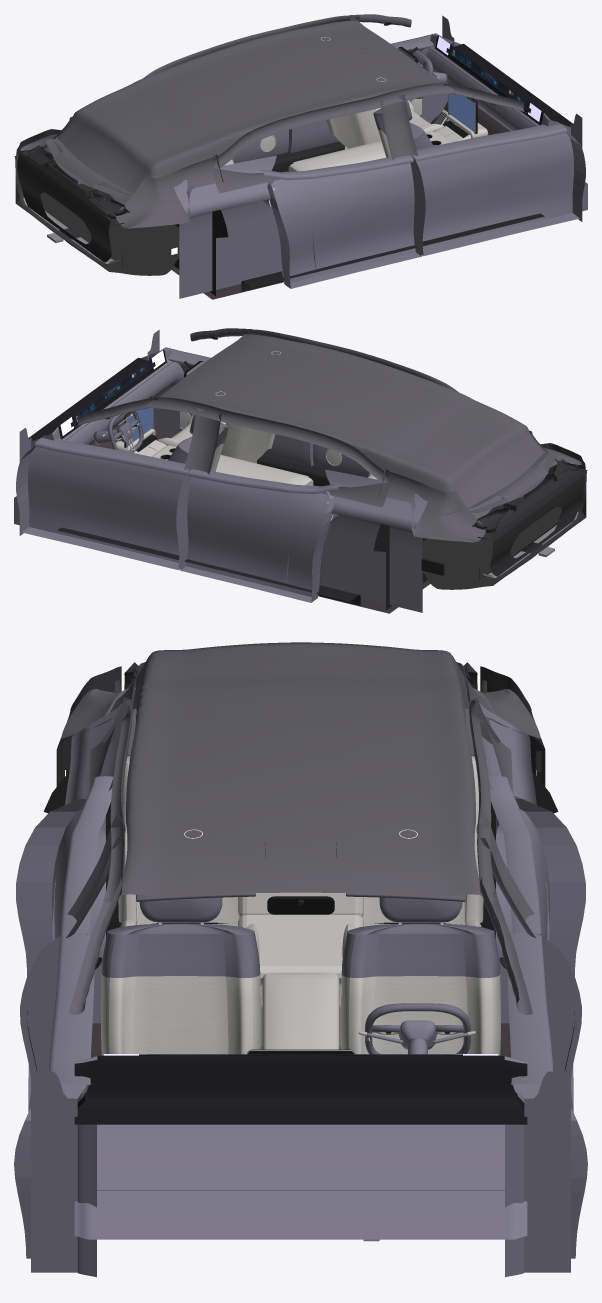
Rendered from avatr-06t-interior.glb.
3 renders of one model, top to bottom at view 1: azimuth 30°, elevation 25°; view 2: azimuth 150°, elevation 25°; view 3: azimuth 270°, elevation 25°, orthographic. The views are drawn at different scales.
Visible parts, largest first — view 1: Avatr06T_Cabin, int_headliner, int_door_R, int_rdoor_R, int_tailgate, int_cpillar, int_door_L, int_parcel_shelf, int_rdoor_L, int_qtr_lower, screen_cluster, screen_main (+1 smaller); view 2: Avatr06T_Cabin, int_headliner, int_door_L, int_rdoor_L, int_tailgate, int_cpillar, int_door_R, int_parcel_shelf, int_rdoor_R, int_qtr_lower, screen_cluster, int_rear_sill (+1 smaller); view 3: Avatr06T_Cabin, int_headliner, int_door_L, int_door_R, int_rdoor_R, int_rdoor_L, int_cpillar, int_qtr_lower, int_cpillar_flange.
Boxes of the visible parts, x1,y1,x2,y2 form: Avatr06T_Cabin: (14, 14, 587, 299); int_headliner: (44, 20, 441, 204); int_door_R: (412, 121, 585, 256); int_rdoor_R: (260, 155, 423, 288); int_tailgate: (17, 145, 129, 262); int_cpillar: (20, 116, 215, 228); int_door_L: (288, 33, 452, 152); int_parcel_shelf: (53, 136, 180, 202); int_rdoor_L: (232, 130, 288, 163); int_qtr_lower: (212, 169, 279, 193); screen_cluster: (446, 45, 531, 113); screen_main: (448, 94, 474, 132); Avatr06T_Cabin: (14, 328, 587, 613); int_headliner: (160, 334, 557, 518); int_door_L: (16, 435, 189, 570); int_rdoor_L: (178, 469, 341, 602); int_tailgate: (472, 458, 584, 576); int_cpillar: (386, 430, 581, 542); int_door_R: (149, 347, 313, 466); int_parcel_shelf: (421, 450, 548, 516); int_rdoor_R: (313, 444, 369, 477); int_qtr_lower: (322, 482, 389, 507); screen_cluster: (70, 359, 155, 427); int_rear_sill: (470, 453, 555, 512); Avatr06T_Cabin: (27, 666, 574, 1277); int_headliner: (120, 642, 481, 895); int_door_L: (507, 934, 587, 1258); int_door_R: (14, 934, 94, 1258); int_rdoor_R: (16, 776, 113, 1109); int_rdoor_L: (488, 776, 585, 1109); int_cpillar: (61, 662, 540, 738); int_qtr_lower: (88, 726, 513, 793); int_cpillar_flange: (101, 697, 500, 743).
Size of the model in its own units: 3.54 by 1.09 by 1.91.
30 materials, 2 textured.
